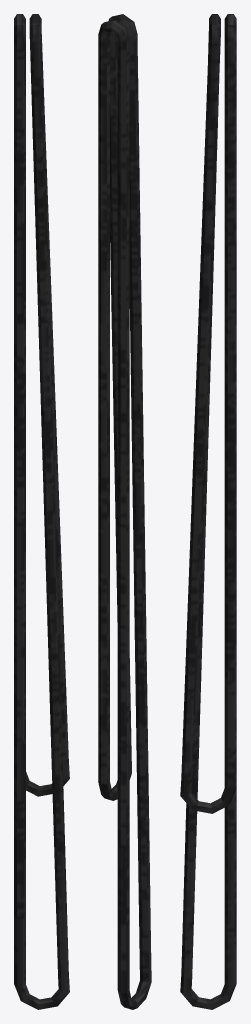
Rendered from RopeVertical2.fbx.
The picture shows the model from 3 angles, left to right: view 1: azimuth 90°, elevation 25°; view 2: azimuth 150°, elevation 25°; view 3: azimuth 270°, elevation 25°; orthographic projection.
Visible parts, largest first — view 1: Cylinder.006; view 2: Cylinder.006; view 3: Cylinder.006.
Part boxes in pixels (box(x1,y1,x2,y2)): Cylinder.006: box(14, 14, 69, 1009); Cylinder.006: box(98, 14, 151, 1009); Cylinder.006: box(180, 14, 236, 1009).
Bounding box in the file's own units: 22.84 × 760 × 38.84.
